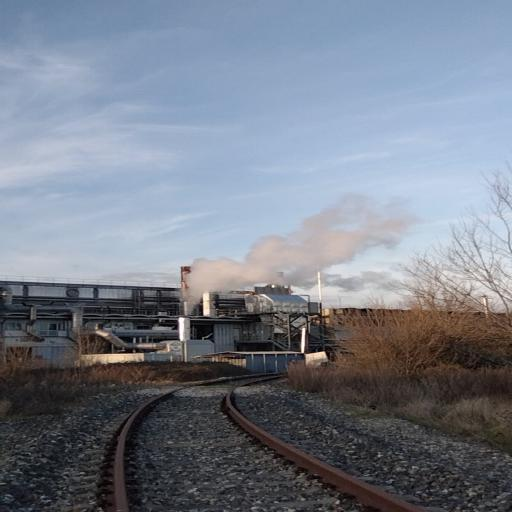leakage: (181, 190, 409, 298)
